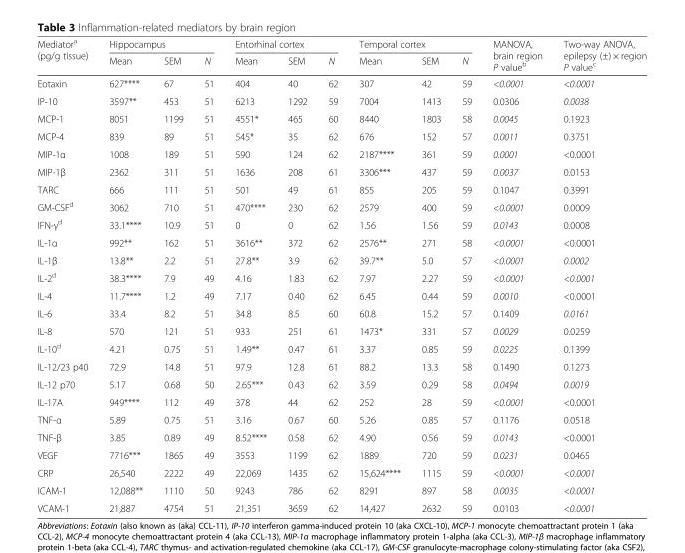table: (36, 36, 646, 513)
table column: (552, 36, 646, 513), (481, 36, 552, 513), (347, 36, 410, 513), (36, 36, 97, 513), (97, 36, 152, 513), (223, 36, 276, 513), (152, 36, 193, 513), (276, 36, 317, 513), (410, 36, 450, 513), (450, 36, 481, 513), (193, 36, 223, 513), (317, 36, 347, 513)
table column header: (36, 36, 646, 74)
table row: (36, 52, 646, 74), (36, 427, 646, 446), (36, 74, 646, 92), (36, 109, 646, 127), (36, 144, 646, 162), (36, 162, 646, 180), (36, 197, 646, 215), (36, 215, 646, 233), (36, 250, 646, 268), (36, 268, 646, 286), (36, 286, 646, 304), (36, 304, 646, 322), (36, 339, 646, 357), (36, 357, 646, 375), (36, 392, 646, 410), (36, 463, 646, 481), (36, 481, 646, 499), (36, 92, 646, 109), (36, 127, 646, 144), (36, 180, 646, 197), (36, 233, 646, 250), (36, 322, 646, 339), (36, 375, 646, 392), (36, 410, 646, 427), (36, 446, 646, 463), (36, 36, 646, 52), (36, 499, 646, 513)
table spanning cell: (552, 36, 646, 74), (481, 36, 552, 74), (36, 36, 97, 74), (347, 36, 481, 52), (97, 36, 223, 52), (223, 36, 347, 52)
